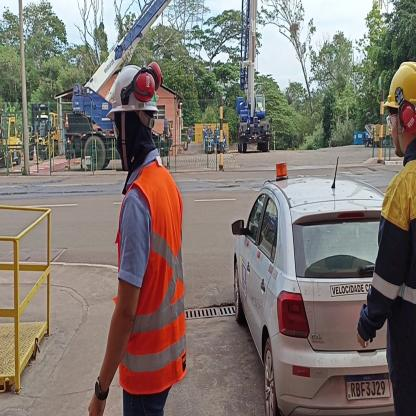Balaclava: (114, 118, 154, 165)
C_eletrica: (363, 167, 416, 416)
Capacete: (109, 65, 164, 114), (386, 60, 416, 110)
colete: (115, 170, 189, 389)
